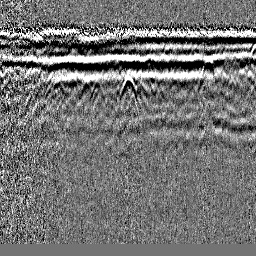cavity: (119, 76, 138, 104)
